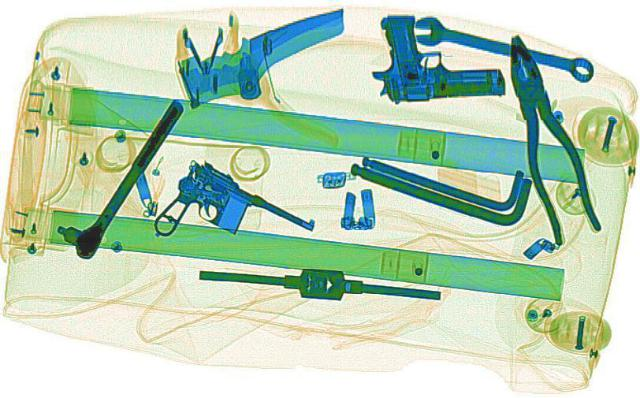Gun: (114, 157, 328, 275), (357, 6, 508, 103)
Pliers: (485, 31, 607, 244)
Wrench: (403, 12, 605, 81)
